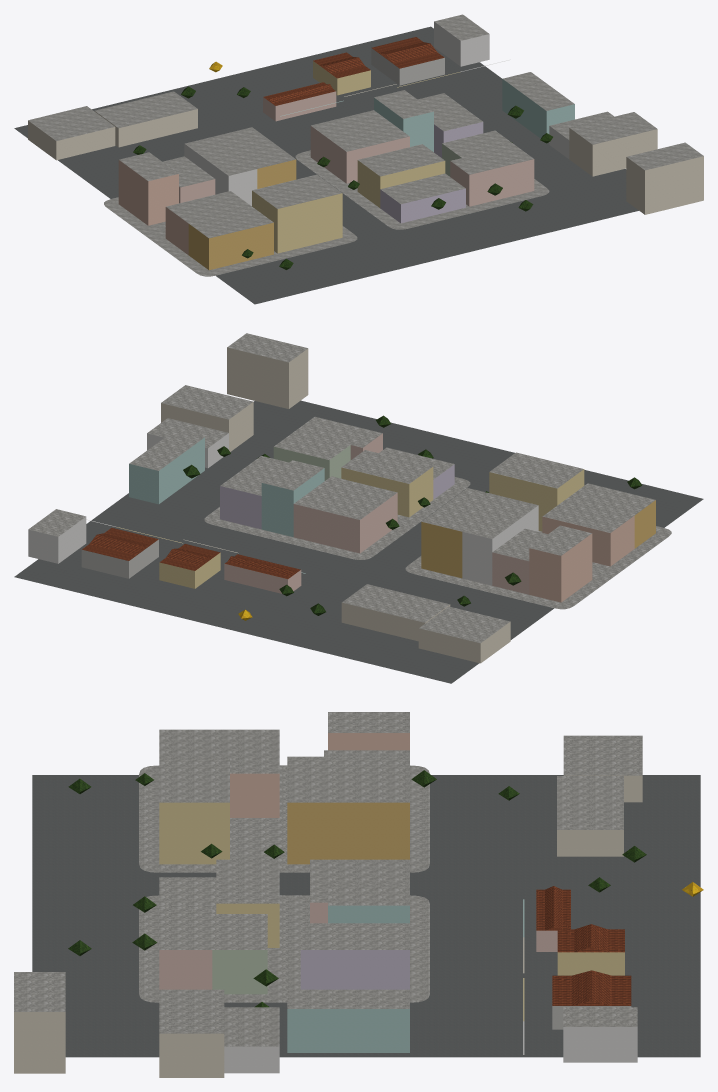
Rendered from cidade_S04_06_lod.gltf.
3 views of the same model, one above another, from view 1: azimuth 30°, elevation 25°; view 2: azimuth 150°, elevation 25°; view 3: azimuth 270°, elevation 25° (orthographic). The views are drawn at different scales.
Parts seen in each view (by area): view 1: S04_06_Edificios_LOD1, S04_06_Chao_LOD2, S04_06_Silhueta_LOD2, S04_06_Vegetacao_LOD2; view 2: S04_06_Edificios_LOD1, S04_06_Chao_LOD2, S04_06_Silhueta_LOD2, S04_06_Vegetacao_LOD2; view 3: S04_06_Chao_LOD2, S04_06_Edificios_LOD1, S04_06_Silhueta_LOD2, S04_06_Vegetacao_LOD2.
Part boxes in pixels (<box>): S04_06_Edificios_LOD1: <box>28,14,703,270</box>; S04_06_Chao_LOD2: <box>14,26,638,304</box>; S04_06_Silhueta_LOD2: <box>263,37,444,120</box>; S04_06_Vegetacao_LOD2: <box>133,61,552,269</box>; S04_06_Edificios_LOD1: <box>28,333,655,663</box>; S04_06_Chao_LOD2: <box>14,400,703,683</box>; S04_06_Silhueta_LOD2: <box>81,527,301,593</box>; S04_06_Vegetacao_LOD2: <box>183,415,641,620</box>; S04_06_Chao_LOD2: <box>32,765,700,1057</box>; S04_06_Edificios_LOD1: <box>14,712,642,1077</box>; S04_06_Silhueta_LOD2: <box>536,889,631,1029</box>; S04_06_Vegetacao_LOD2: <box>68,770,703,1007</box>.
Size of the model in its own units: 111 by 10.37 by 103.
Materials: 15 (15 with a texture image).
